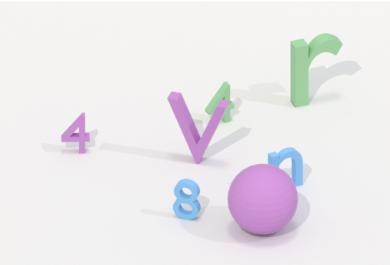0-Tron: (224, 160, 300, 239)
4: (55, 106, 96, 160)
8: (170, 175, 204, 225)
V: (165, 89, 231, 167)
r: (285, 30, 347, 112)
